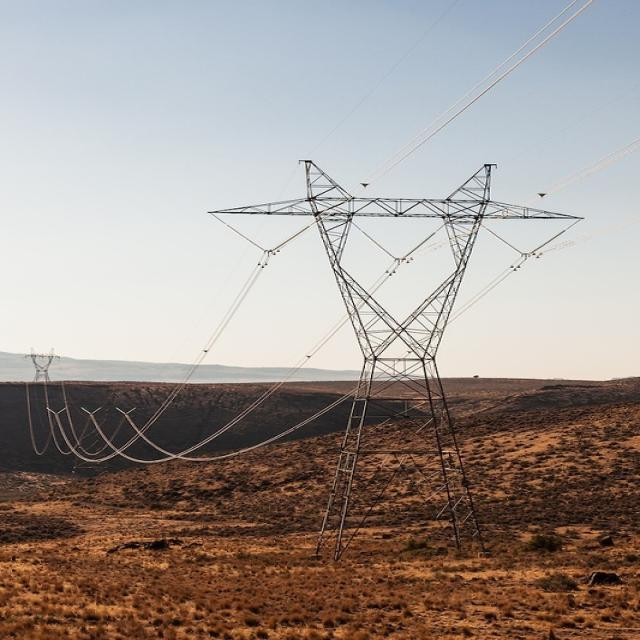non-critical vegetation: (227, 162, 578, 584)
